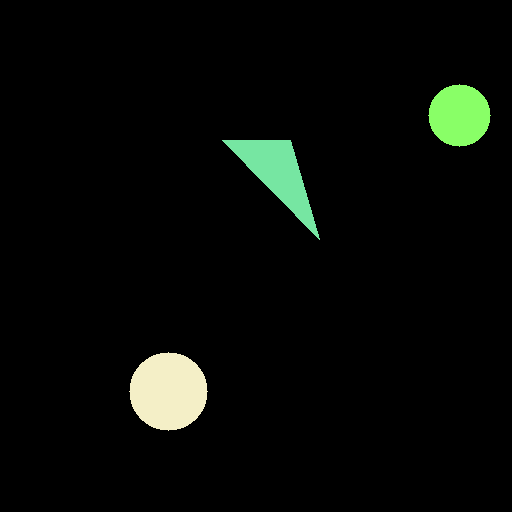circle: (129, 352, 207, 430), (428, 84, 490, 146)
triangle: (222, 140, 319, 239)
